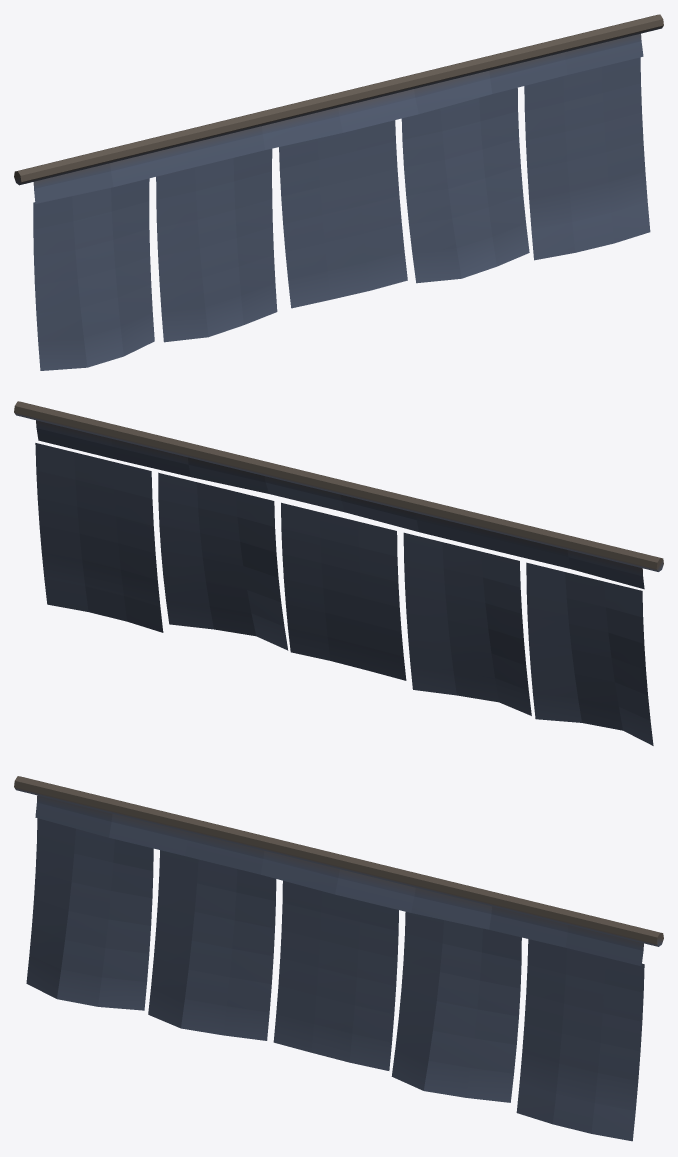
Rendered from prop_noren_ai.glb.
The picture shows the model from 3 angles, top to bottom: view 1: azimuth 30°, elevation 25°; view 2: azimuth 150°, elevation 25°; view 3: azimuth 330°, elevation 25°; orthographic projection.
Visible parts, largest first — view 1: prop_noren_ai; view 2: prop_noren_ai; view 3: prop_noren_ai.
Boxes of the visible parts, x1,y1,x2,y2 form: prop_noren_ai: (14, 14, 663, 370); prop_noren_ai: (14, 401, 663, 745); prop_noren_ai: (14, 776, 663, 1141).
Bounding box in the file's own units: 2.17 × 0.6671 × 0.1446.
